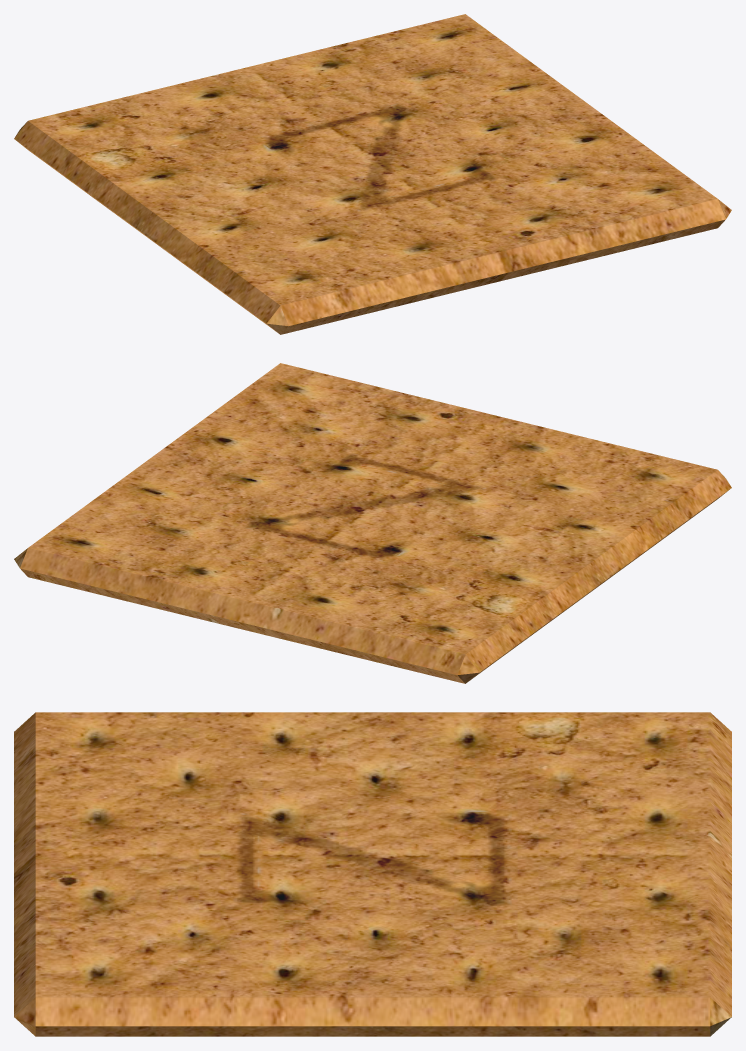
The model's file is KindledSpirits-GrahamCracker.fbx.
3 renders of one model, top to bottom at view 1: azimuth 30°, elevation 25°; view 2: azimuth 150°, elevation 25°; view 3: azimuth 270°, elevation 25°, orthographic. The views are drawn at different scales.
Parts seen in each view (by area): view 1: GrahamCracker-LOD0; view 2: GrahamCracker-LOD0; view 3: GrahamCracker-LOD0.
Part boxes in pixels (left/top/right/bottom): GrahamCracker-LOD0: left=14, top=14, right=731, bottom=334; GrahamCracker-LOD0: left=14, top=363, right=731, bottom=683; GrahamCracker-LOD0: left=14, top=712, right=731, bottom=1036.
Bounding box in the file's own units: 30.48 × 1.83 × 30.48.
